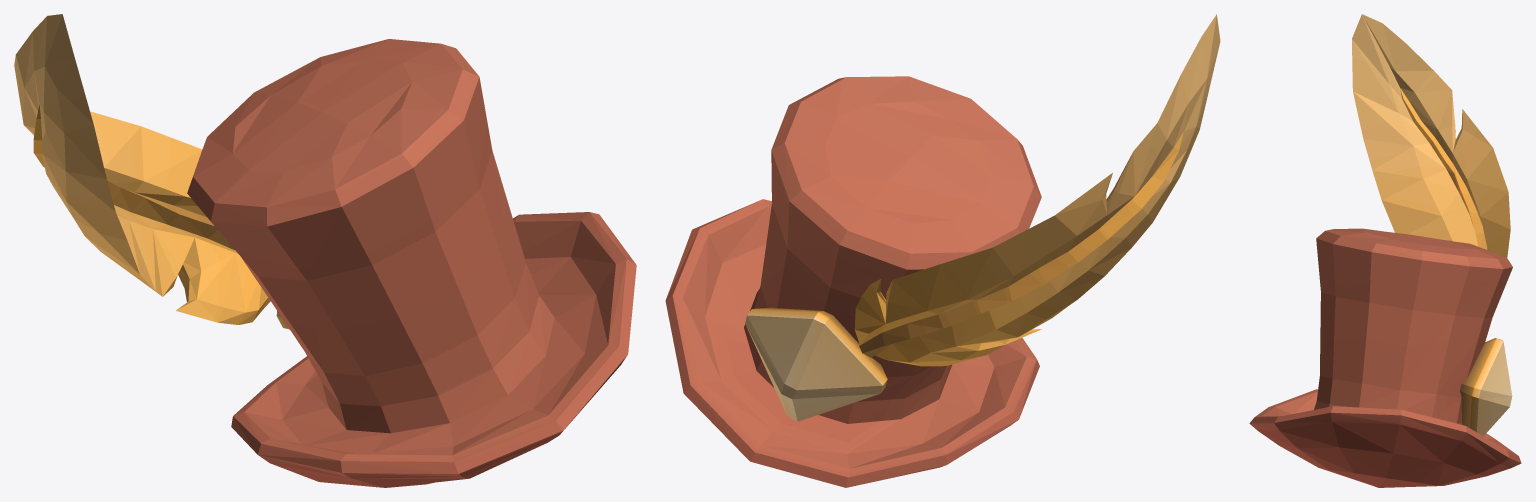
Rendered from CharSkyKid_Hat_AP30SmallHat.glb.
3 renders of one model, left to right at view 1: azimuth 30°, elevation 25°; view 2: azimuth 150°, elevation 25°; view 3: azimuth 270°, elevation 25°, orthographic. The views are drawn at different scales.
Visible parts, largest first — view 1: CharSkyKid_Hat_AP30SmallHat; view 2: CharSkyKid_Hat_AP30SmallHat; view 3: CharSkyKid_Hat_AP30SmallHat.
Part boxes in pixels (bbox=[...]): CharSkyKid_Hat_AP30SmallHat: bbox=[14, 14, 636, 487]; CharSkyKid_Hat_AP30SmallHat: bbox=[665, 14, 1220, 487]; CharSkyKid_Hat_AP30SmallHat: bbox=[1249, 14, 1521, 487].
Size of the model in its own units: 2.32 by 2.18 by 1.52.
1 material, 1 textured.
